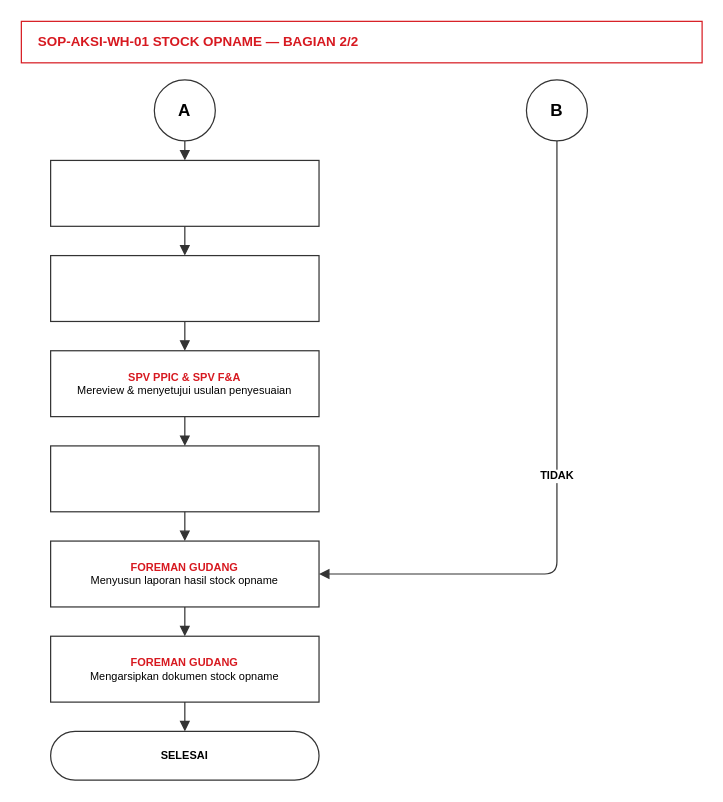
Image size: 723x802. Some labels were removed from this diagram. The shapes that lost their labels are listed below. From the top down, each one's centre as x and y in pixels, then its label:
At point (184, 192): "FOREMAN GUDANG Menelusuri penyebab selisih".
At point (184, 287): "FOREMAN GUDANG Menyusun usulan penyesuaian stok".
At point (184, 478): "ADMIN GUDANG Memutakhirkan data stok sistem".
